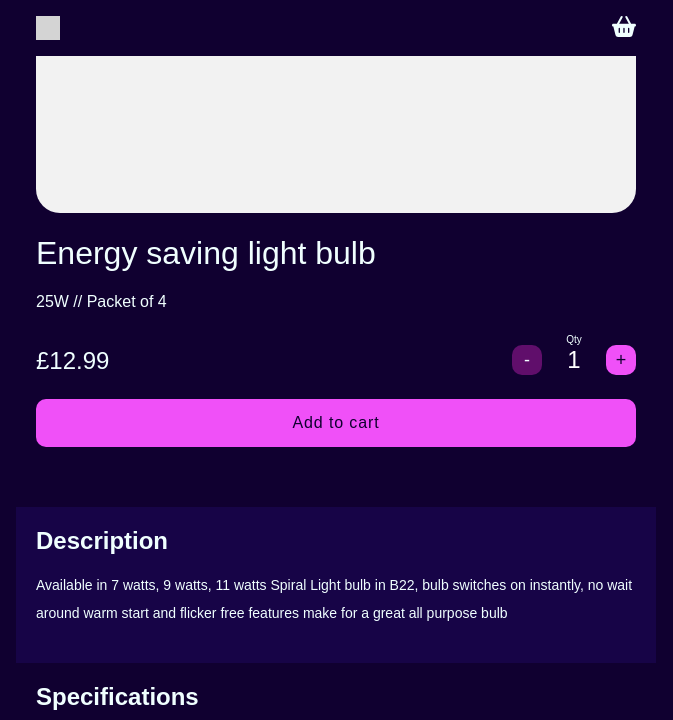
Scenario: should be able to increase and decrease product quantity
This screenshot has width=673, height=720.
(page scrolled)
Expected: the number field labelled "Qty" holds "1", x1=550 y1=345 x2=598 y2=375
Click the button "+" at (621, 360), box x1=606 y1=345 x2=636 y2=375
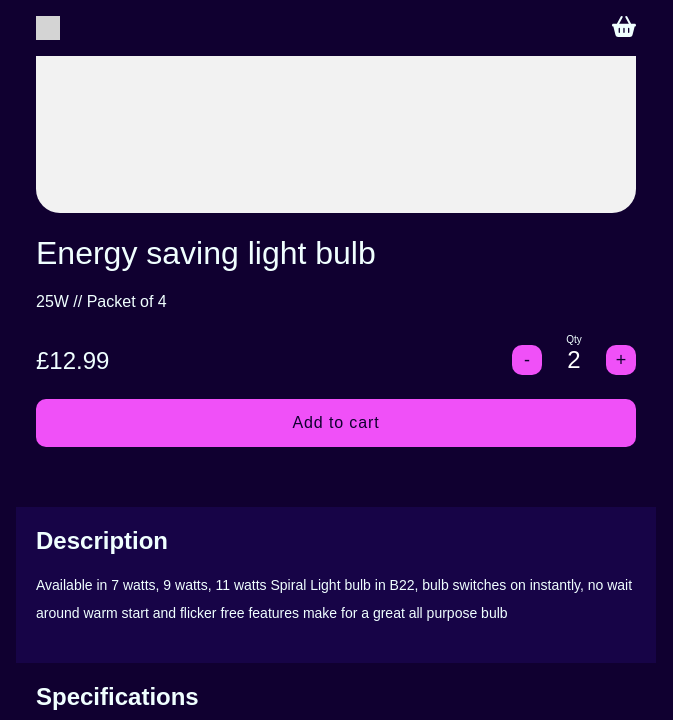
Result: the number field labelled "Qty" holds "2" at x1=550 y1=345 x2=598 y2=375
Click the button "-" at (527, 360), box x1=512 y1=345 x2=542 y2=375
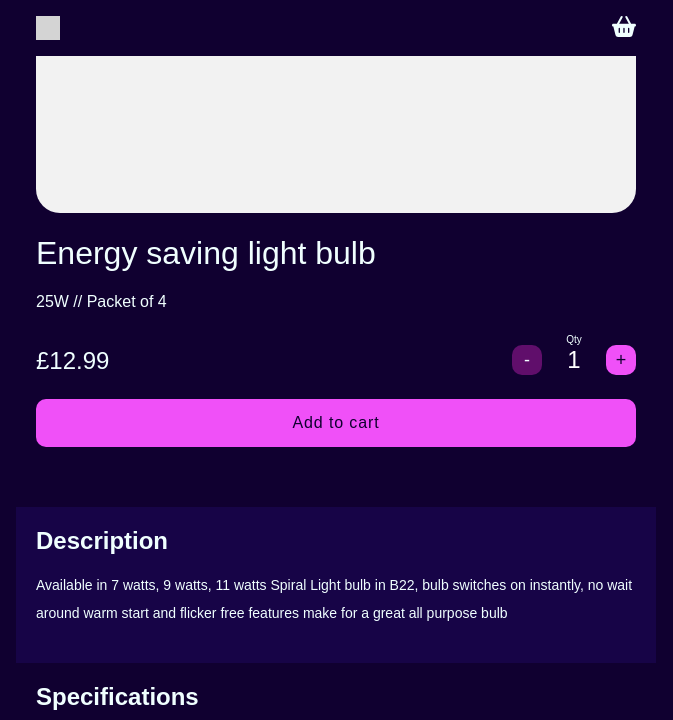
Result: the number field labelled "Qty" holds "1" at x1=550 y1=345 x2=598 y2=375
